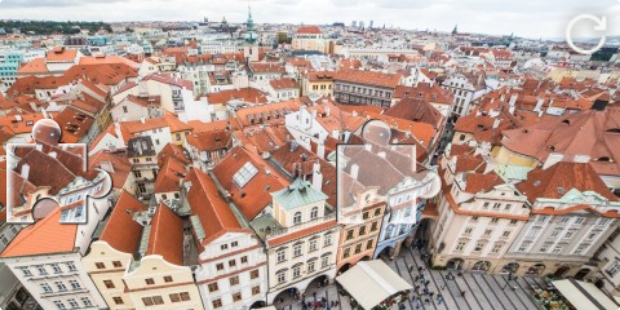target: (337, 119, 441, 224)
